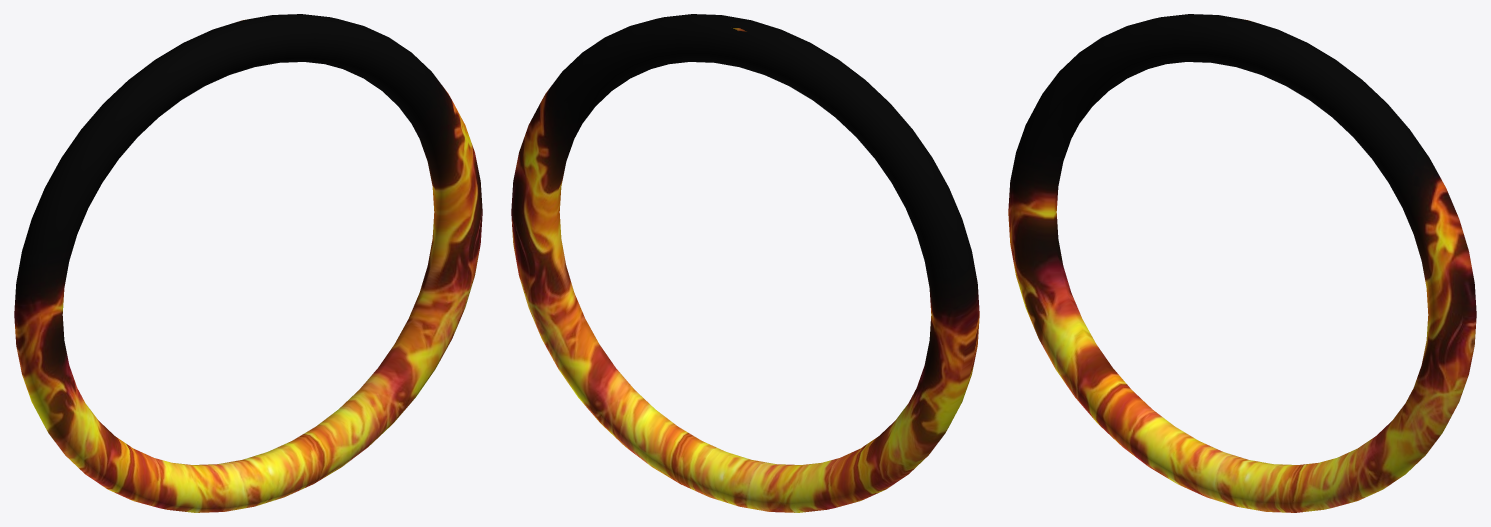
File: ring.dae
The picture shows the model from 3 angles, left to right: view 1: azimuth 30°, elevation 25°; view 2: azimuth 150°, elevation 25°; view 3: azimuth 330°, elevation 25°; orthographic projection.
Parts seen in each view (by area): view 1: Body; view 2: Body; view 3: Body.
Boxes of the visible parts, x1,y1,x2,y2 form: Body: (14, 14, 482, 512); Body: (511, 14, 979, 512); Body: (1008, 14, 1476, 512).
Bounding box in the file's own units: 2.2 × 0.2 × 2.2.
1 material, 1 textured.
